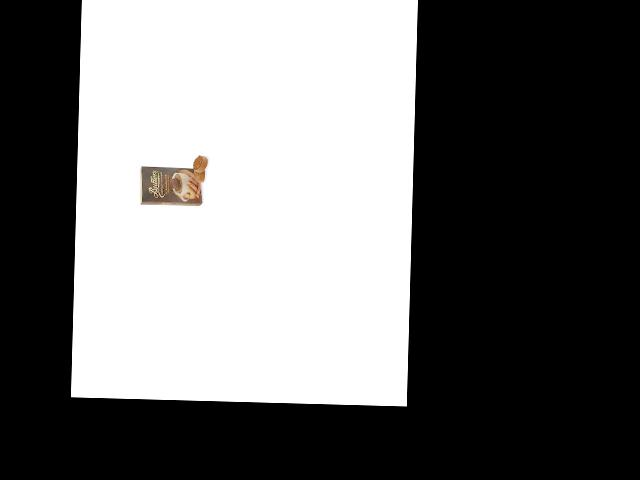chocolate: (137, 160, 205, 208)
